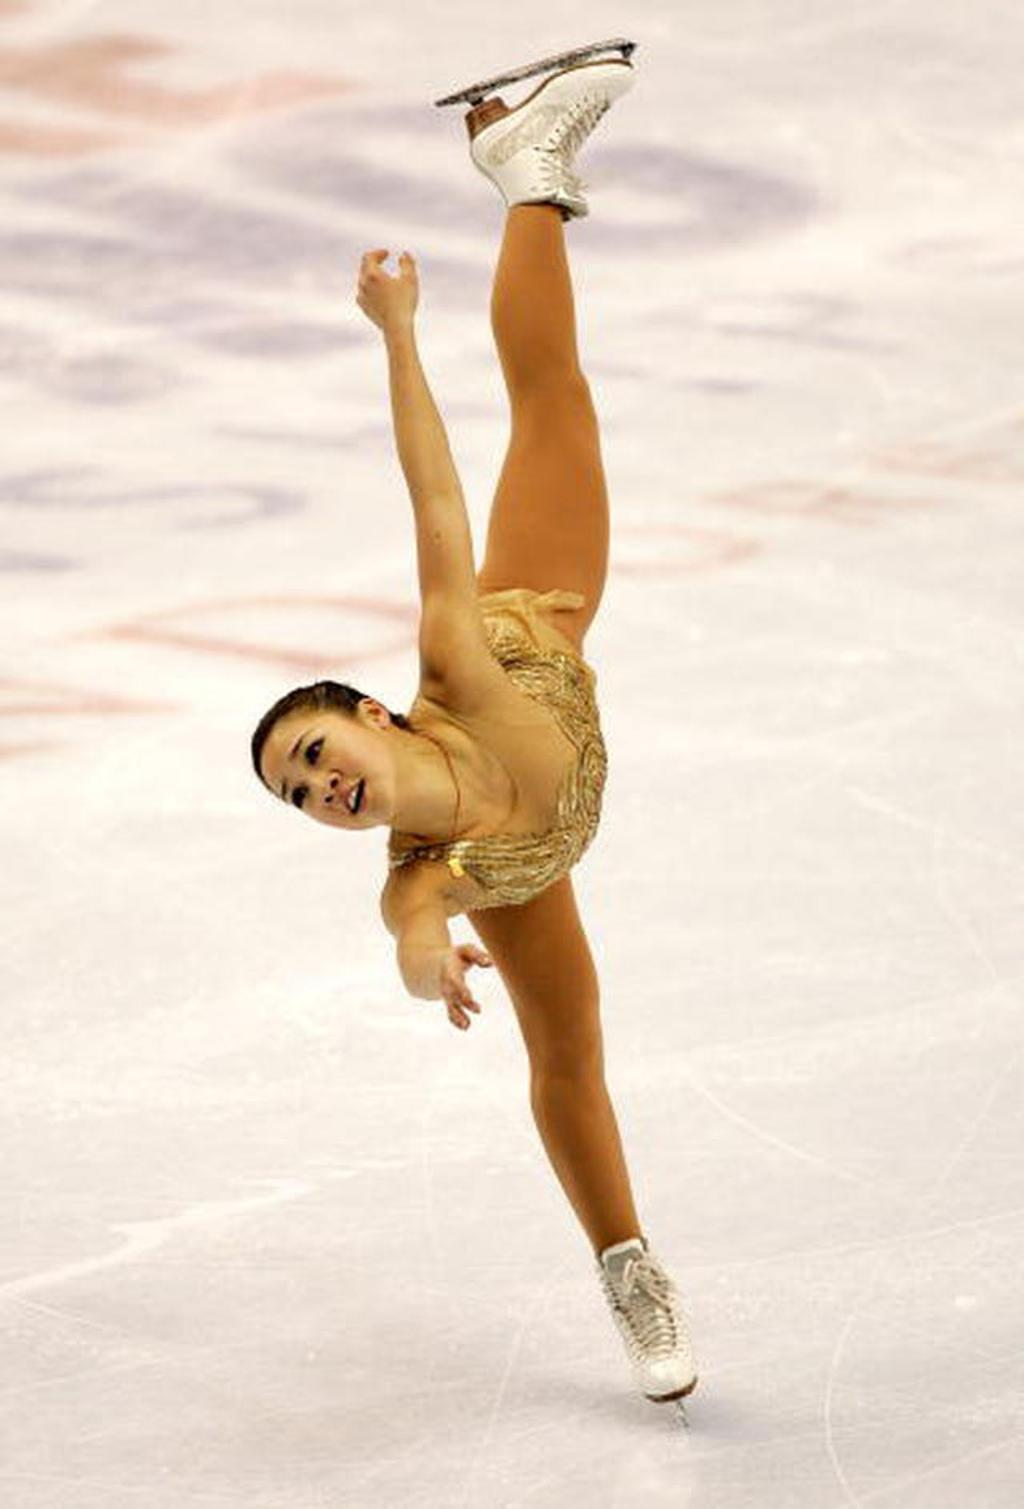face: (260, 714, 396, 829)
